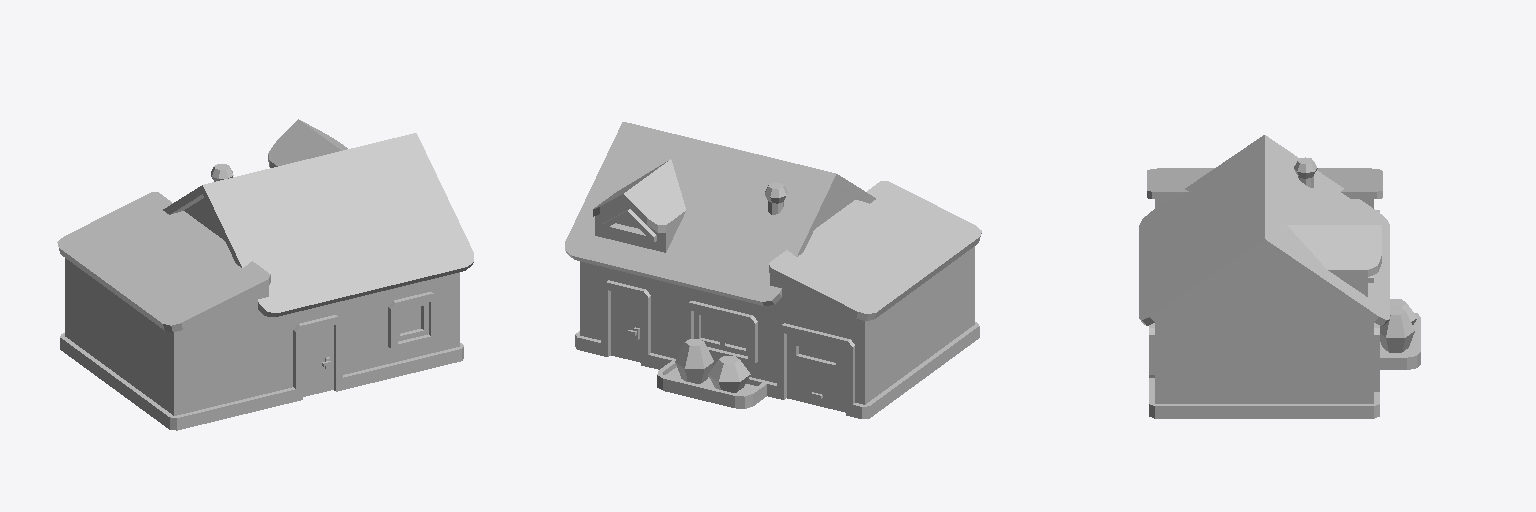
The model's file is suburban_building-type-i.obj.
3 views of the same model, side by side, from view 1: azimuth 30°, elevation 25°; view 2: azimuth 150°, elevation 25°; view 3: azimuth 270°, elevation 25° (orthographic).
Visible parts, largest first — view 1: building-type-i; view 2: building-type-i; view 3: building-type-i.
Boxes of the visible parts, <box> form: building-type-i: <box>57,119,473,430</box>; building-type-i: <box>565,122,981,418</box>; building-type-i: <box>1139,135,1420,418</box>.
Size of the model in its own units: 1.29 by 0.7375 by 1.03.